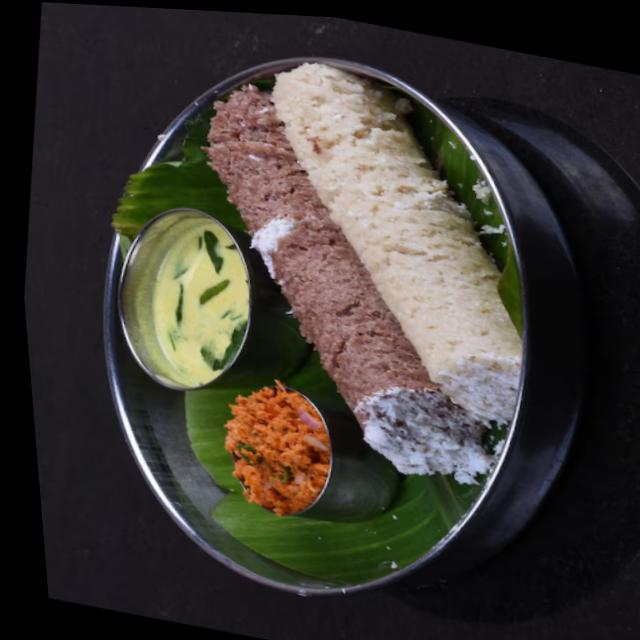CURRY: (148, 221, 252, 388)
PUTTU: (200, 63, 539, 502)
